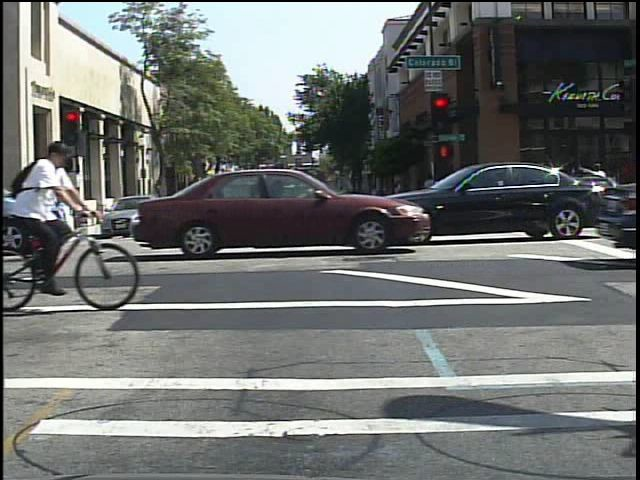person: (13, 126, 89, 305), (590, 158, 616, 223)
